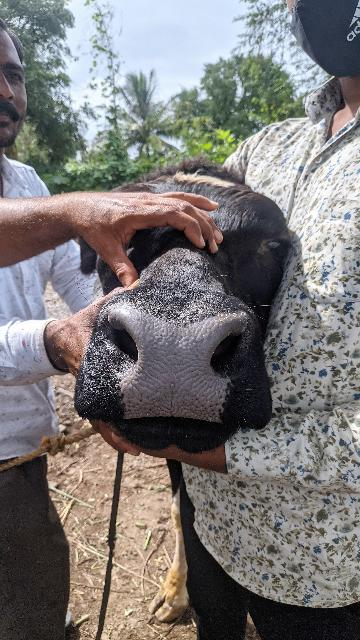Muzzle: (137, 312, 213, 414)
